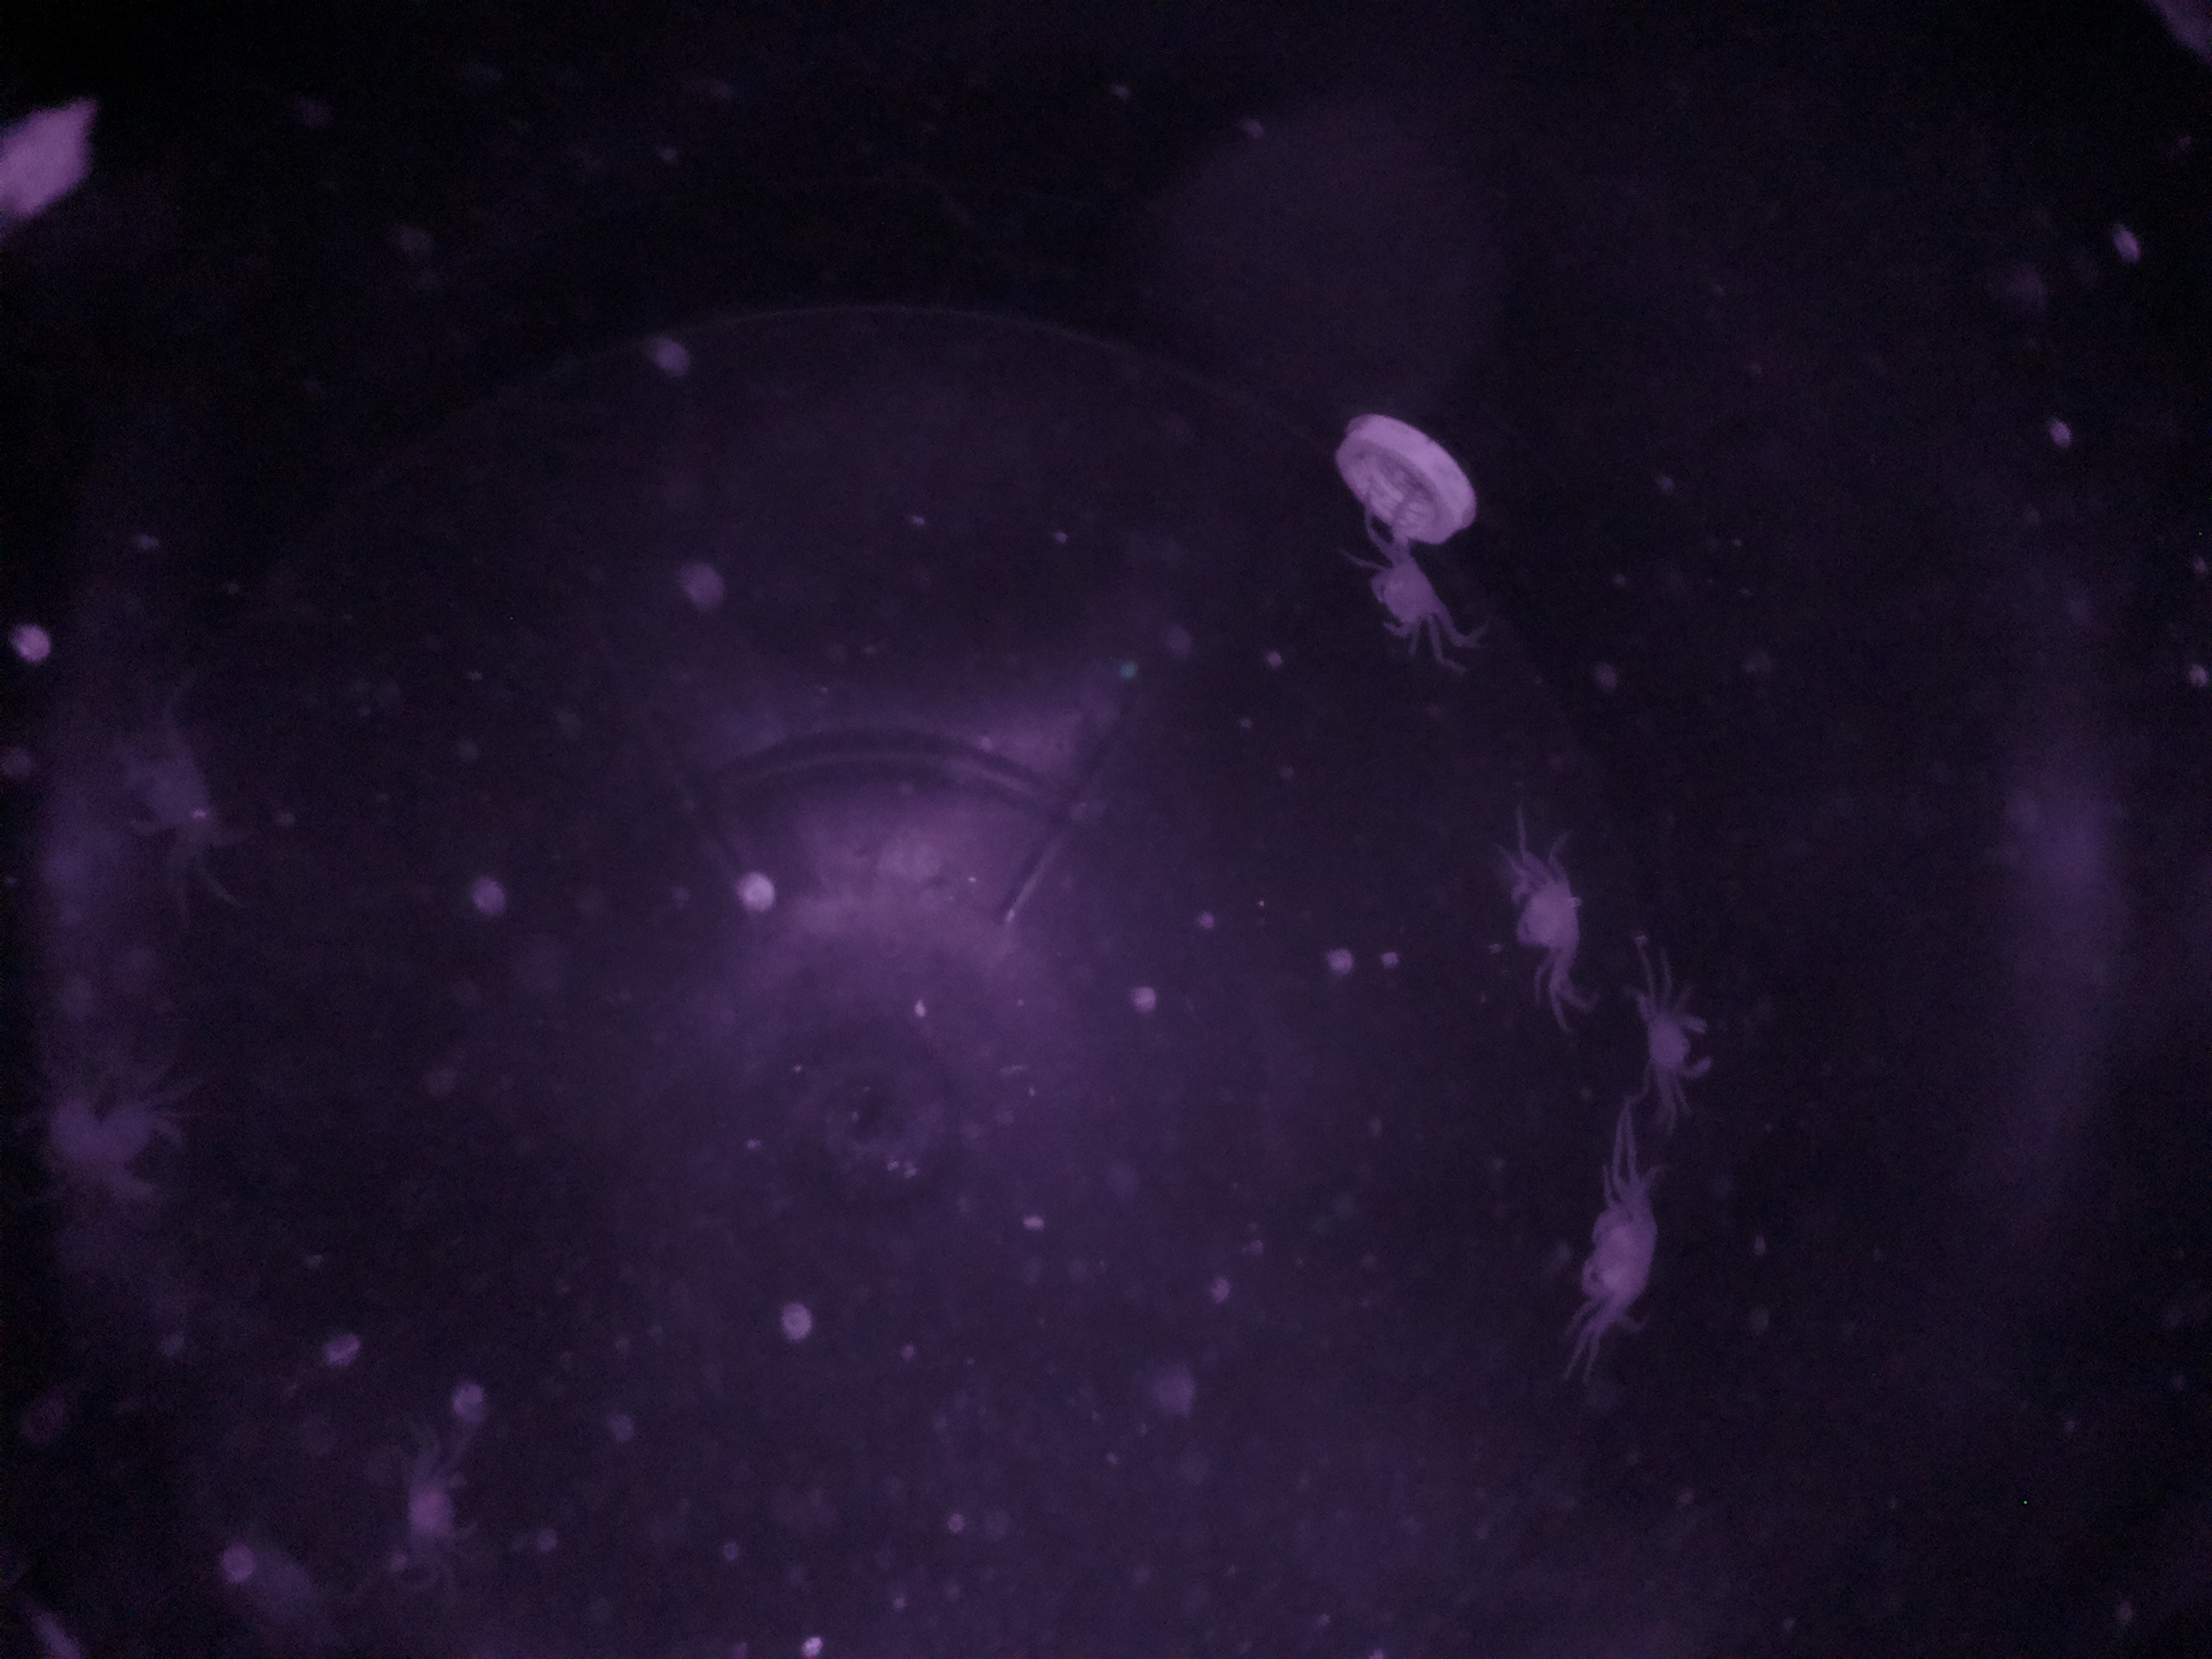Crab: (1562, 1154, 1683, 1342), (1353, 528, 1458, 683), (1493, 843, 1609, 976), (1627, 981, 1728, 1105)
